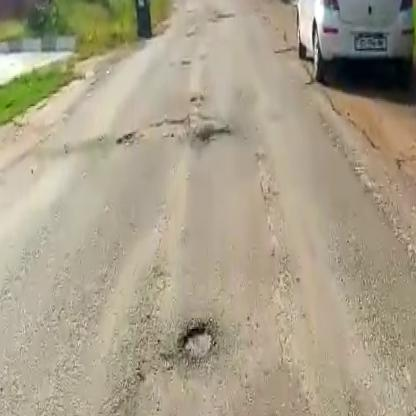pothole: (114, 119, 190, 149), (175, 322, 217, 369), (197, 124, 235, 146)
